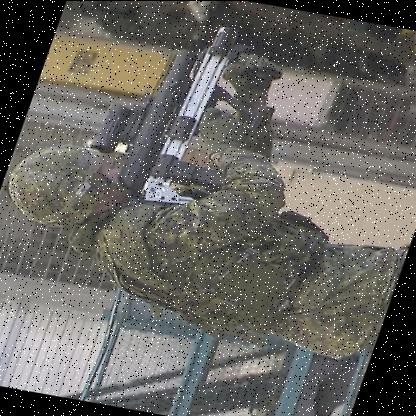rifle: (108, 16, 264, 216)
